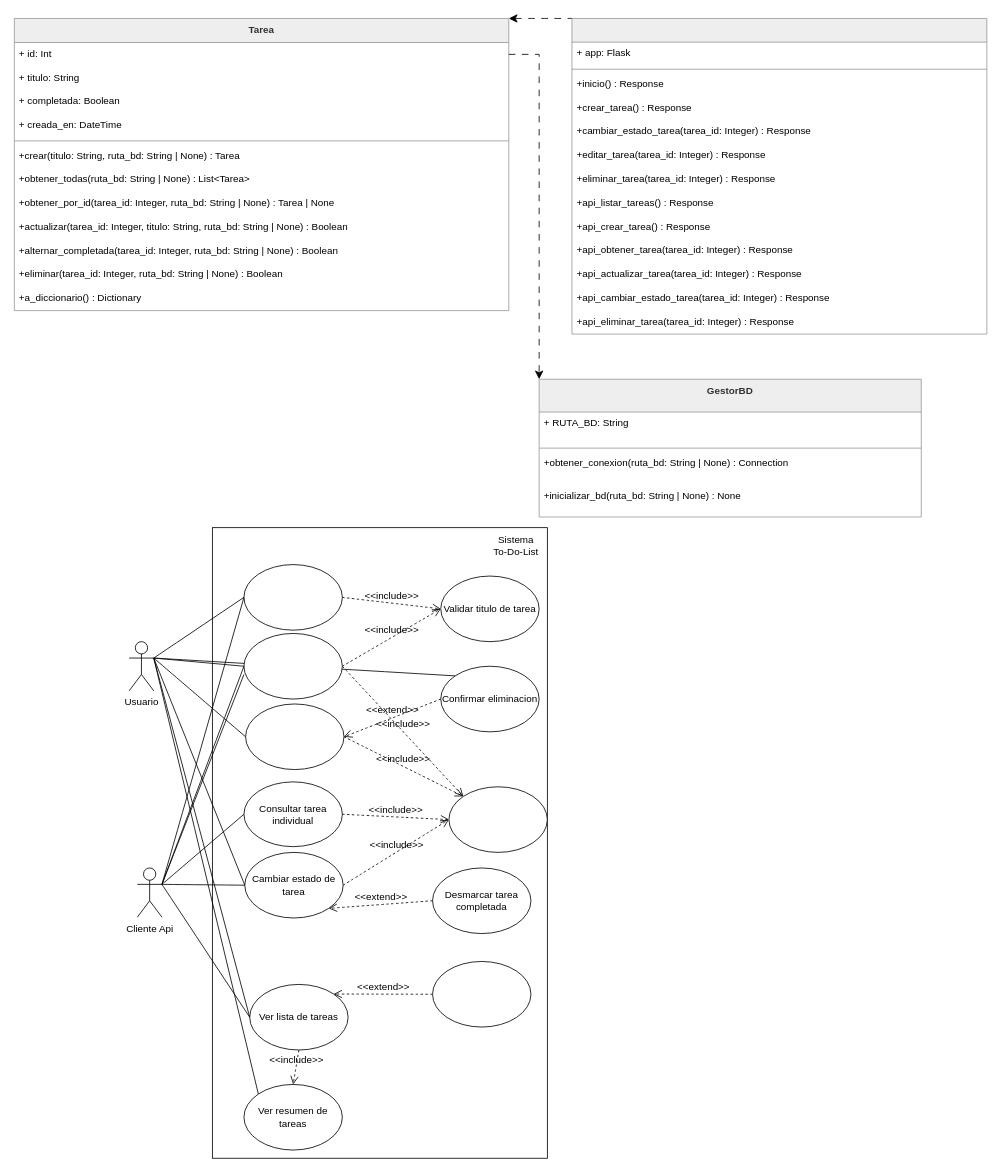
Image size: 1001x1173. Some labels were removed from this diagram. The shapes that lost their labels are listed below. From the top down, each one's box as (x1, y1, x2, y2) in pixels, then its label:
(571, 18, 987, 334): ControladorTareas
(243, 564, 342, 630): Crear tarea
(243, 633, 342, 699): Editar tarea
(245, 703, 344, 770): Eliminar Tarea
(448, 786, 547, 852): Buscar tarea por ID
(432, 961, 531, 1027): Mostrar mensaje de lista vacia
